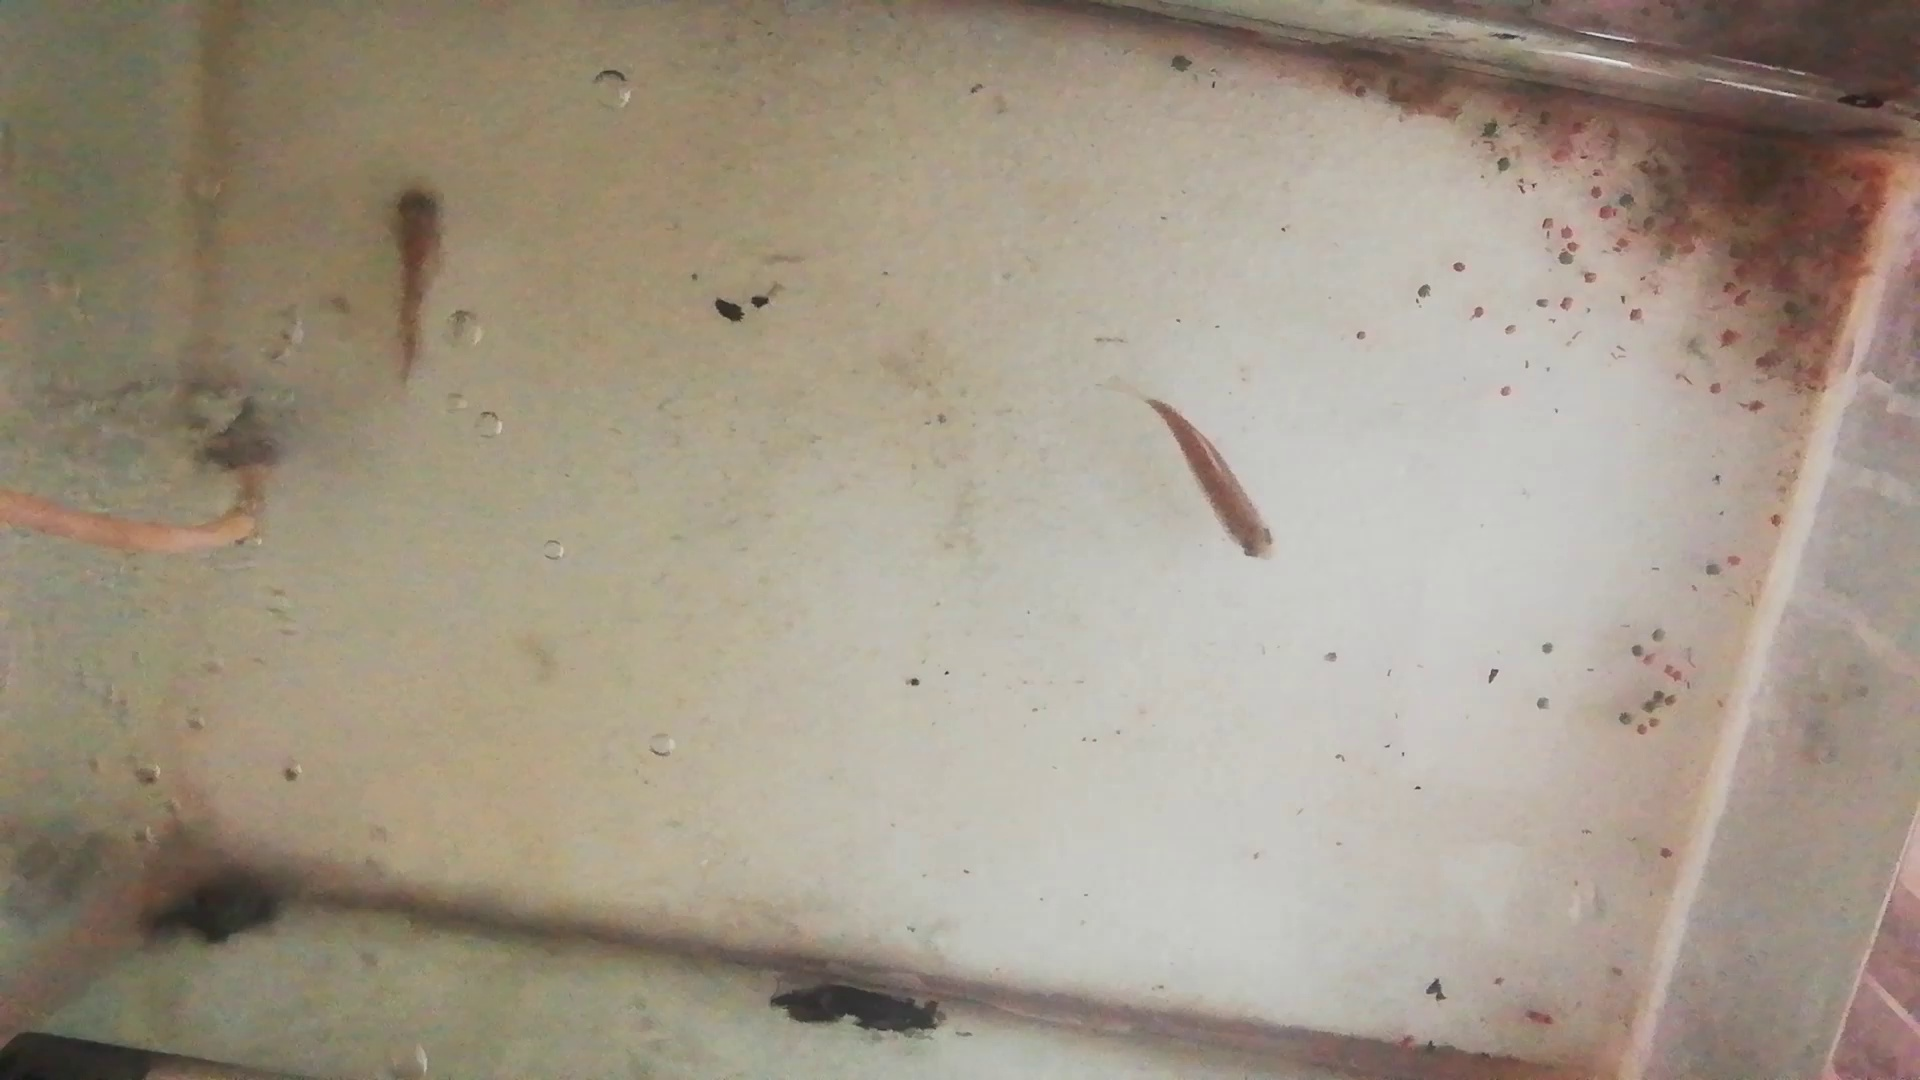fish: (1145, 398, 1276, 566), (392, 183, 443, 396)
